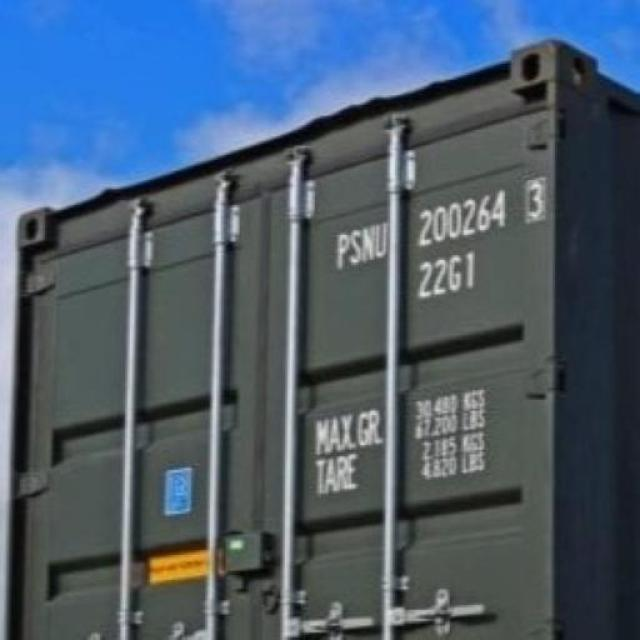ISO: (412, 253, 474, 297)
container_number: (332, 176, 548, 266)
